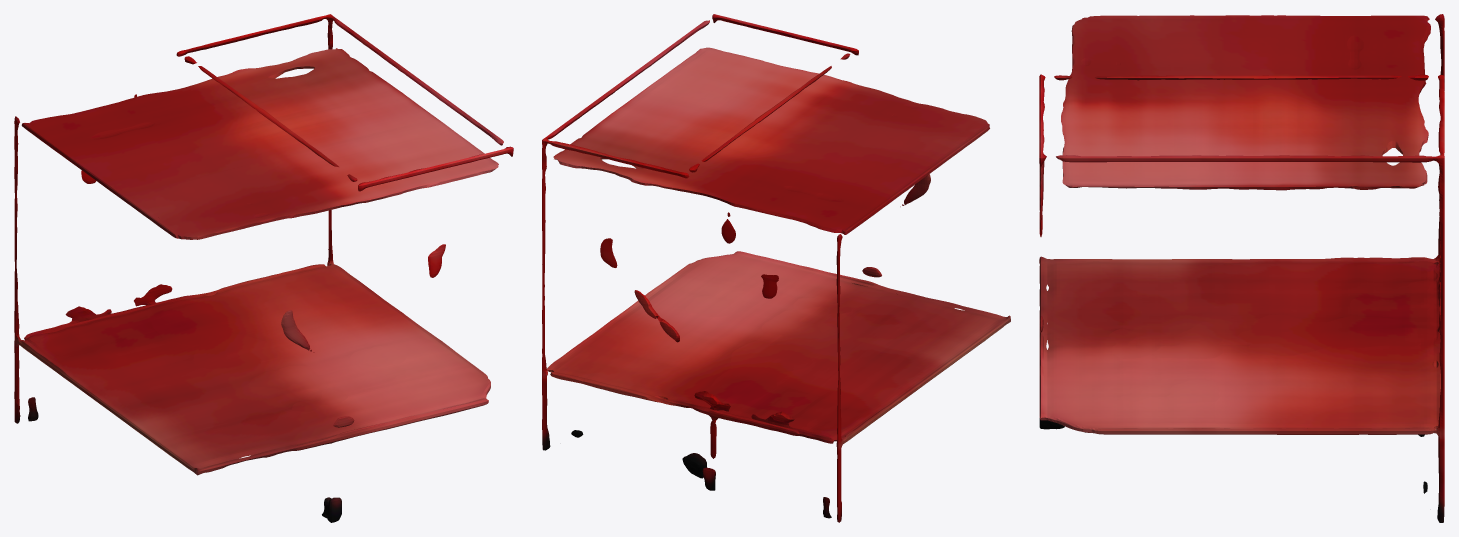
The model's file is tmppwd0pciw.glb.
The picture shows the model from 3 angles, left to right: view 1: azimuth 30°, elevation 25°; view 2: azimuth 150°, elevation 25°; view 3: azimuth 270°, elevation 25°; orthographic projection. The views are drawn at different scales.
Visible parts, largest first — view 1: tmpv34xujh_.ply; view 2: tmpv34xujh_.ply; view 3: tmpv34xujh_.ply.
Part boxes in pixels (<box>): tmpv34xujh_.ply: <box>14,14,513,522</box>; tmpv34xujh_.ply: <box>542,14,1010,522</box>; tmpv34xujh_.ply: <box>1039,14,1444,522</box>.
Size of the model in its own units: 1.98 by 1.98 by 1.98.
